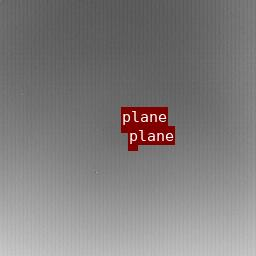plane: (121, 126, 134, 132), (128, 145, 137, 149)
